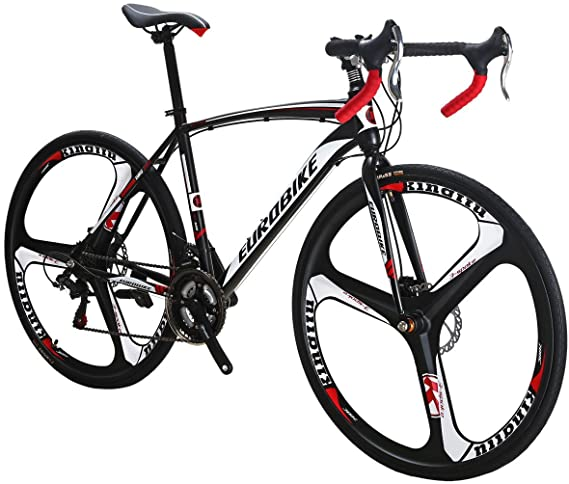bicycle: (4, 1, 569, 482)
